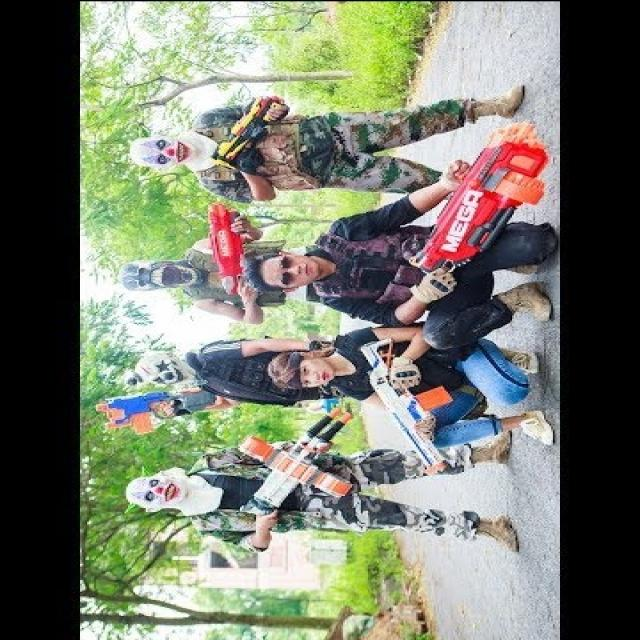Nerf gun: (403, 120, 550, 288), (351, 337, 460, 482), (234, 407, 367, 524), (88, 379, 221, 445), (204, 90, 287, 174), (201, 199, 261, 297)
